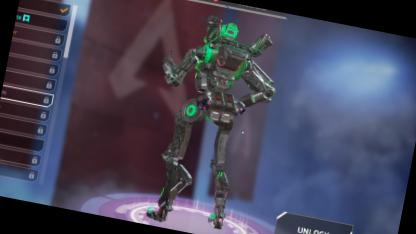Target: (164, 11, 262, 186)
